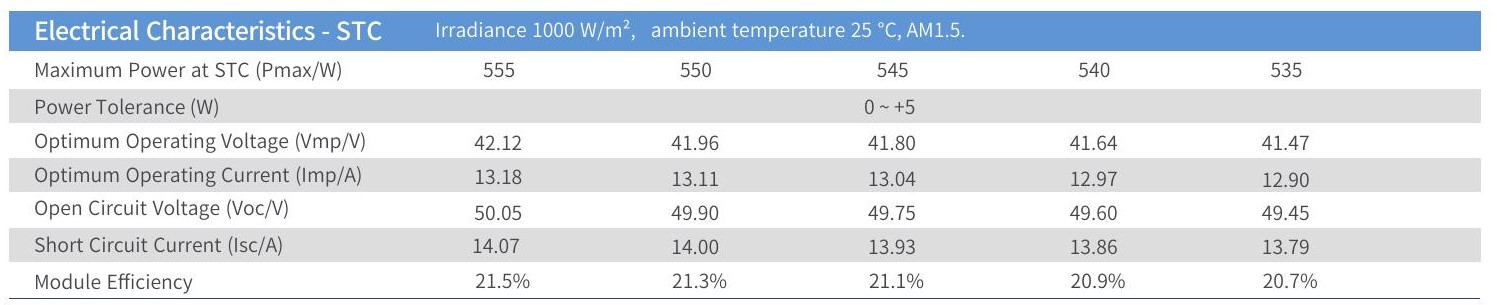table: (1, 40, 1497, 305)
table column: (23, 45, 410, 298), (820, 48, 948, 296), (1226, 45, 1344, 298), (634, 47, 752, 296), (1043, 48, 1159, 298), (450, 46, 557, 296)
table row: (7, 89, 1486, 120), (8, 228, 1489, 258), (7, 123, 1486, 153), (9, 159, 1487, 189), (8, 264, 1485, 294), (7, 195, 1488, 224), (11, 53, 1482, 81)
table spanning cell: (438, 86, 1396, 123)
